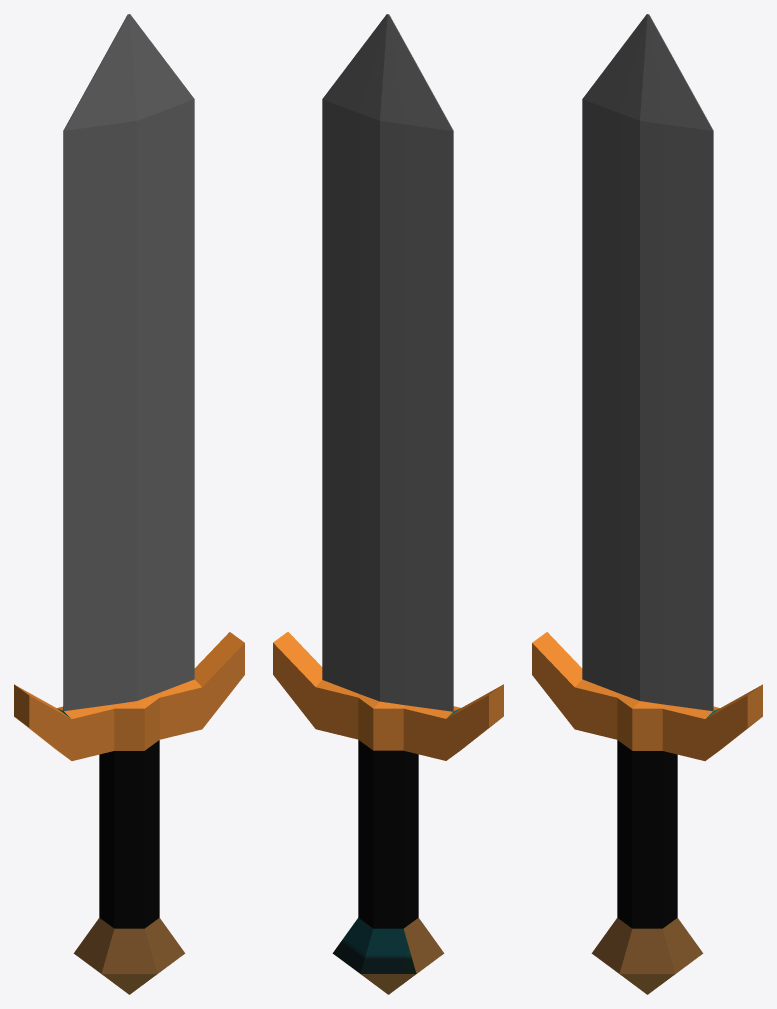
The model's file is Sword_Hero.fbx.
3 renders of one model, left to right at view 1: azimuth 30°, elevation 25°; view 2: azimuth 150°, elevation 25°; view 3: azimuth 330°, elevation 25°, orthographic.
Visible parts, largest first — view 1: Sword; view 2: Sword; view 3: Sword.
Boxes of the visible parts, x1=… form: Sword: x1=14, y1=14, x2=244, y2=994; Sword: x1=273, y1=14, x2=503, y2=994; Sword: x1=532, y1=14, x2=762, y2=994.
Bounding box in the file's own units: 26.57 × 115 × 11.93.
